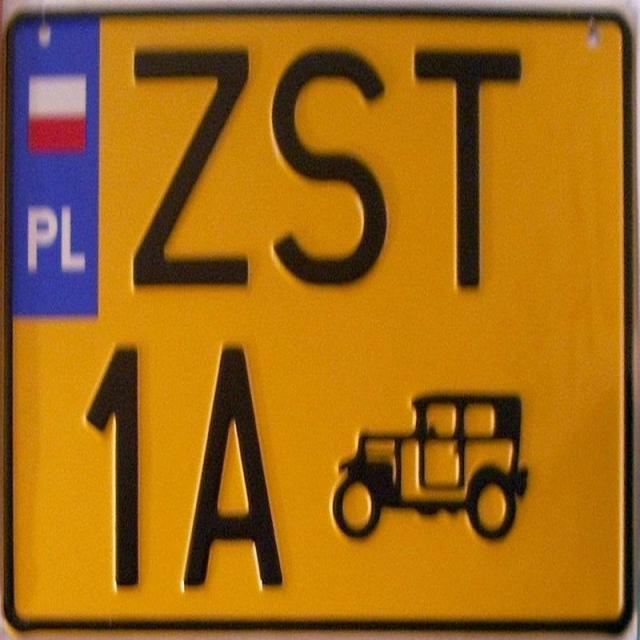pl_license_plate: (11, 15, 626, 625)
